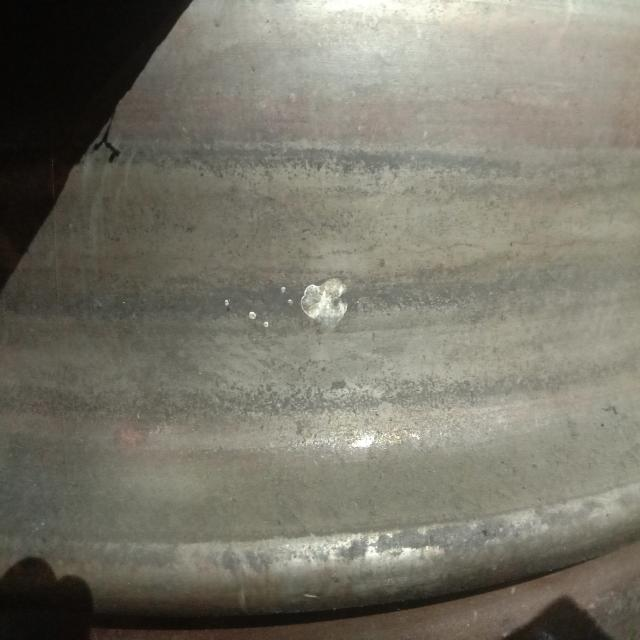flat: (228, 240, 364, 377)
